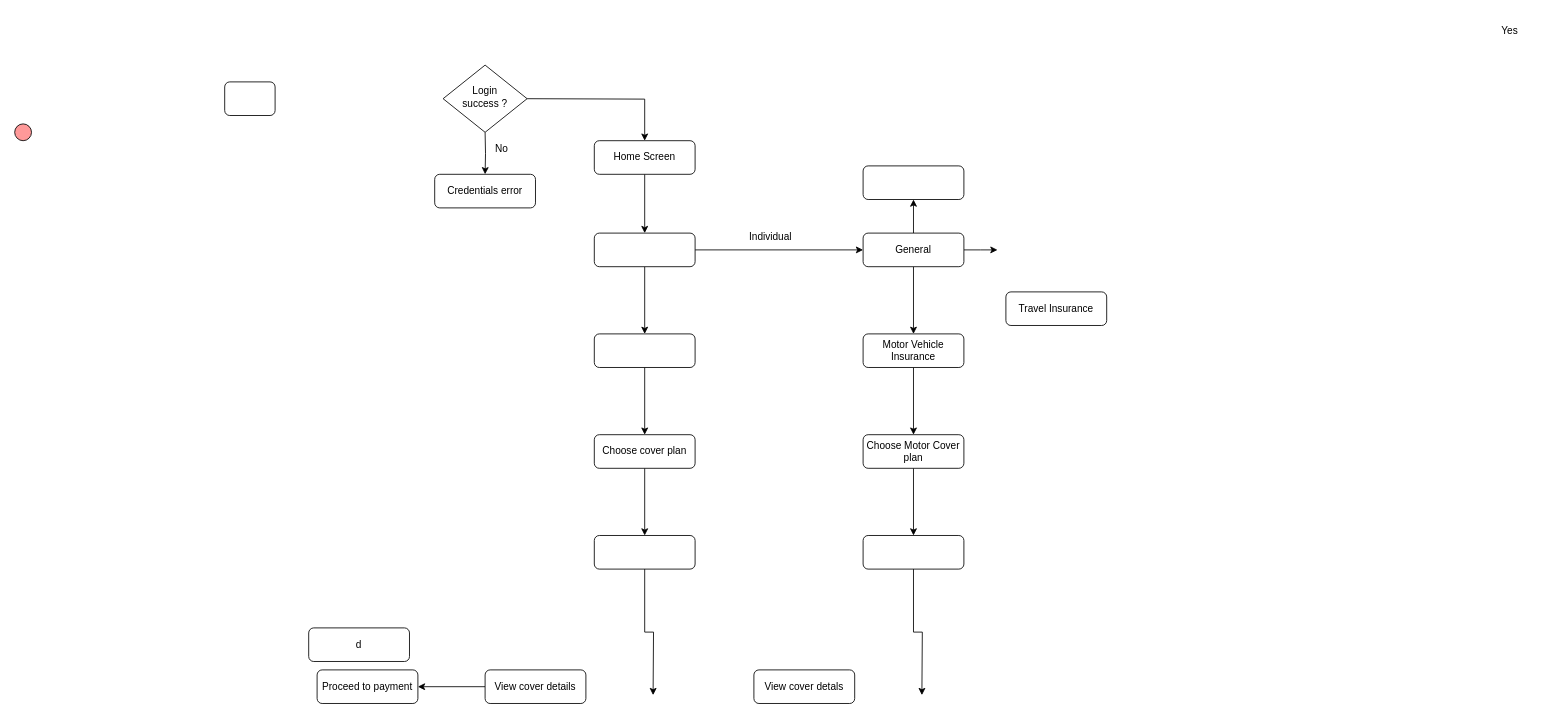
This 1558x718 diagram has some shape labels left out. Each missing label, with the centre of its shape:
Choose cover type: point (644, 350)
Choose Insurance type: point (644, 249)
Fill cover details: point (644, 552)
Fill Motor cover detailsa: point (913, 552)
Home insurance: point (913, 182)
User login: point (249, 98)
